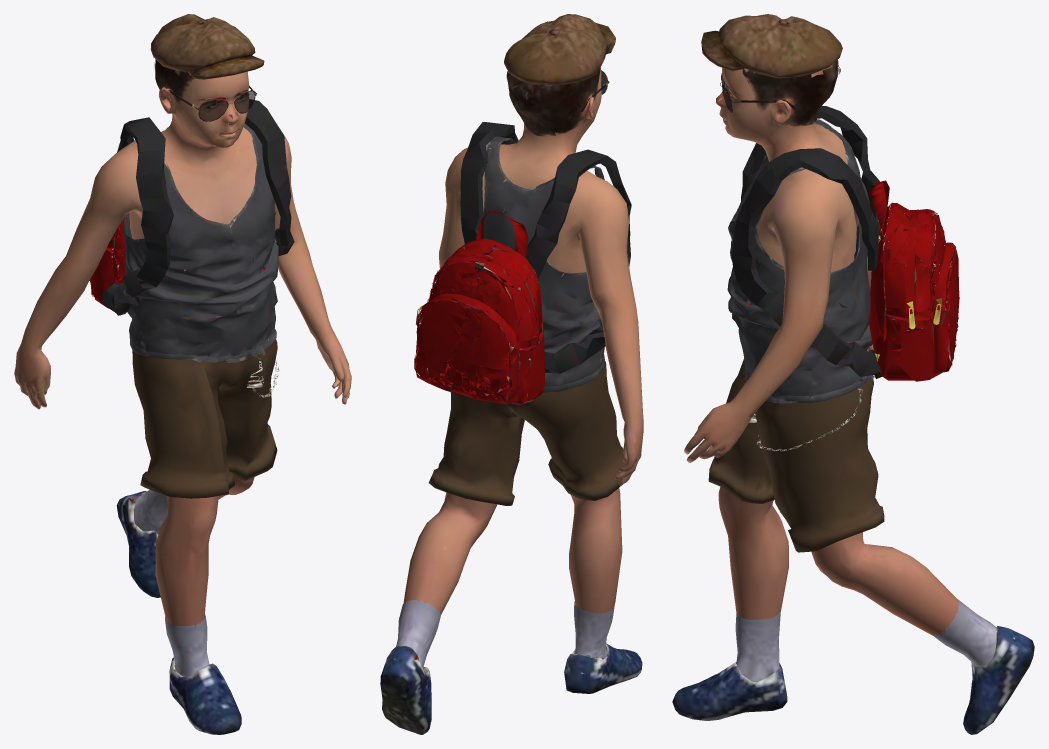
3 views of the same model, side by side, from view 1: azimuth 30°, elevation 25°; view 2: azimuth 150°, elevation 25°; view 3: azimuth 270°, elevation 25° (orthographic). The views are drawn at different scales.
Parts seen in each view (by area): view 1: p04279; view 2: p04279; view 3: p04279.
Boxes of the visible parts, <box> form: p04279: <box>14,14,351,734</box>; p04279: <box>380,14,643,734</box>; p04279: <box>672,14,1034,734</box>.
Size of the model in its own units: 0.4768 by 1.25 by 0.5796.
Materials: 1 (1 with a texture image).
